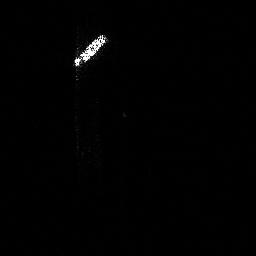ship: (73, 32, 106, 67)
